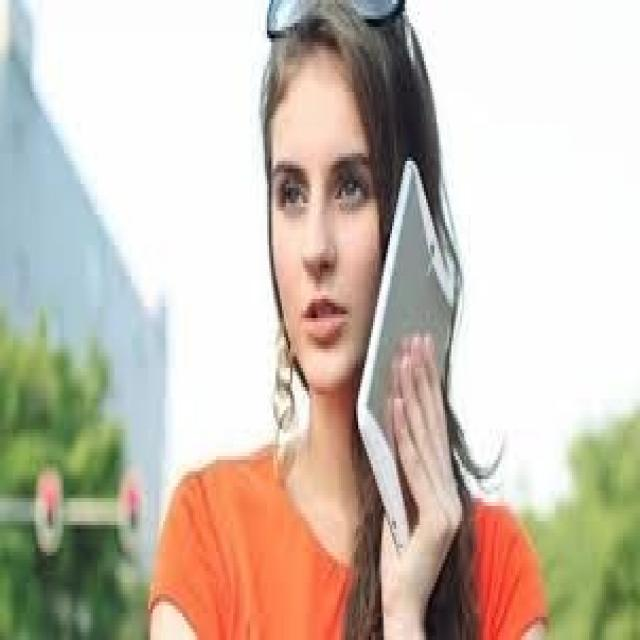phone: (320, 107, 485, 575)
